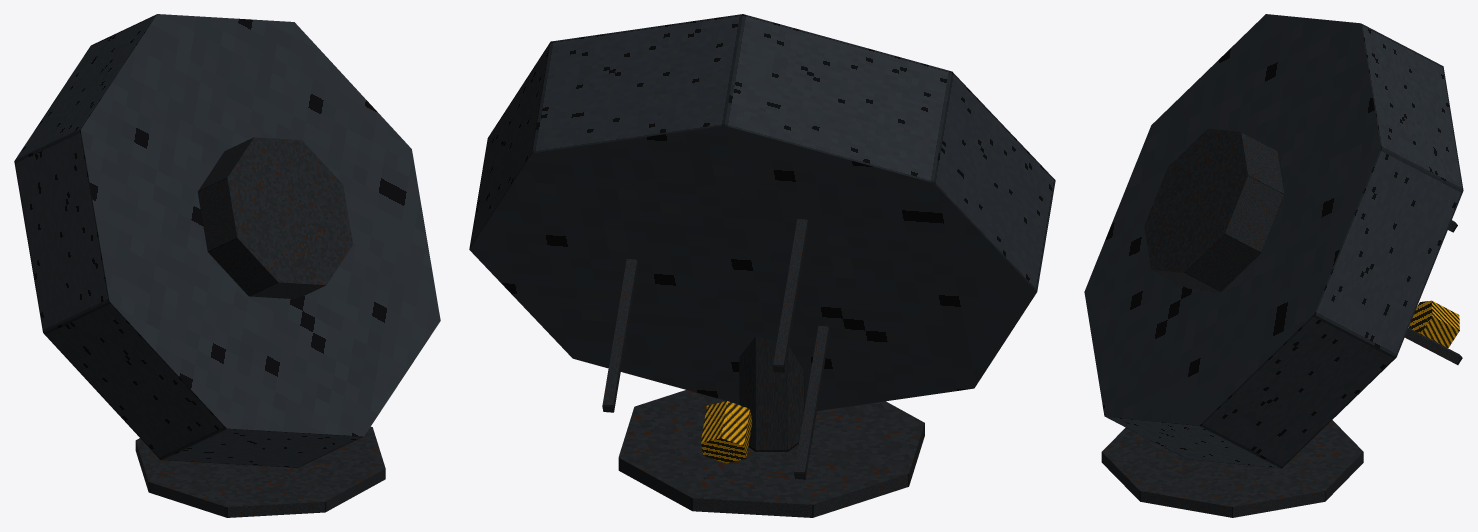
File: antenna_dish.glb
The picture shows the model from 3 angles, left to right: view 1: azimuth 30°, elevation 25°; view 2: azimuth 150°, elevation 25°; view 3: azimuth 270°, elevation 25°; orthographic projection. The views are drawn at different scales.
Parts seen in each view (by area): view 1: antenna_dish; view 2: antenna_dish; view 3: antenna_dish.
Part boxes in pixels (x1,y1,x2,y2): antenna_dish: [14, 14, 440, 517]; antenna_dish: [469, 14, 1055, 517]; antenna_dish: [1084, 14, 1463, 517].
Size of the model in its own units: 0.8022 by 0.7777 by 0.6369.
Materials: 1 (1 with a texture image).
